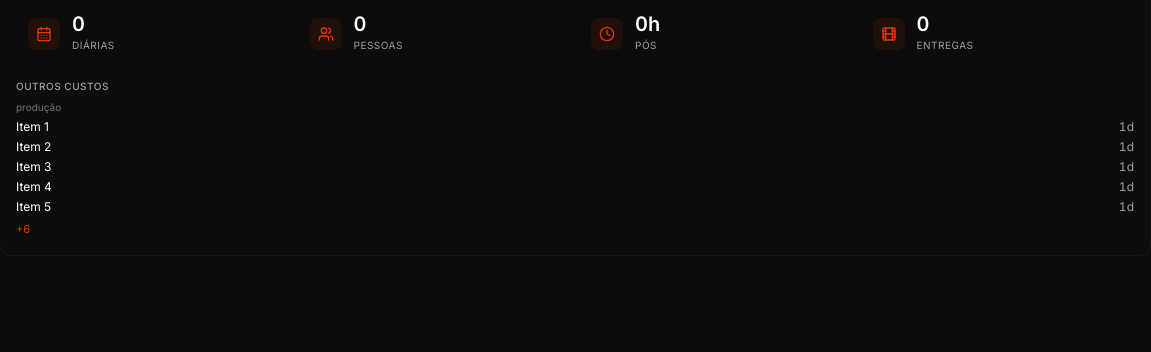
Test: QuadroResumo › corta a coluna em 6 linhas e o +N mostra o resto
Expected: the text "Item 5" is shown, 16,199 -> 51,215
Expected: the text "Item 6" is not shown
Click the button "+6". click: (23, 229)
box: 16,221 -> 30,238
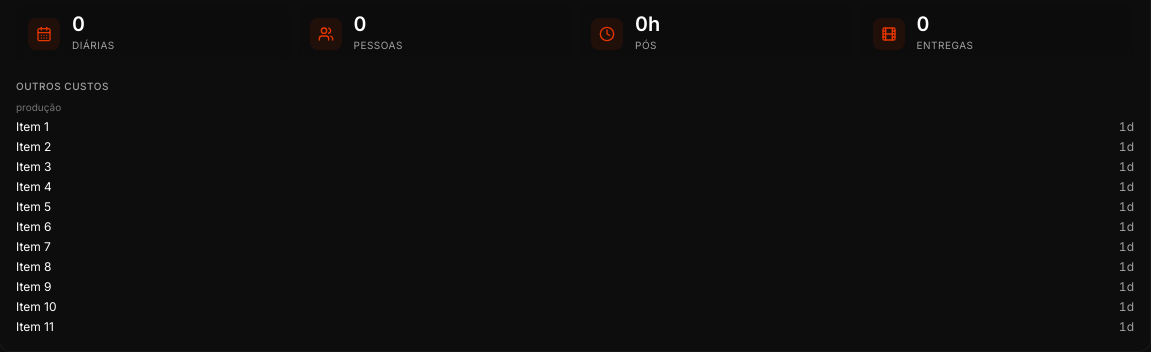
Expected: the text "Item 11" is shown, 16,319 -> 54,335
